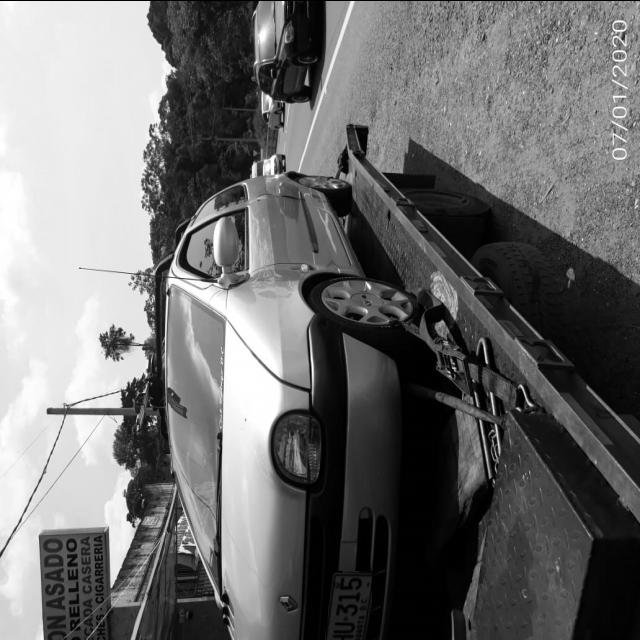plate: (327, 570, 372, 640)
